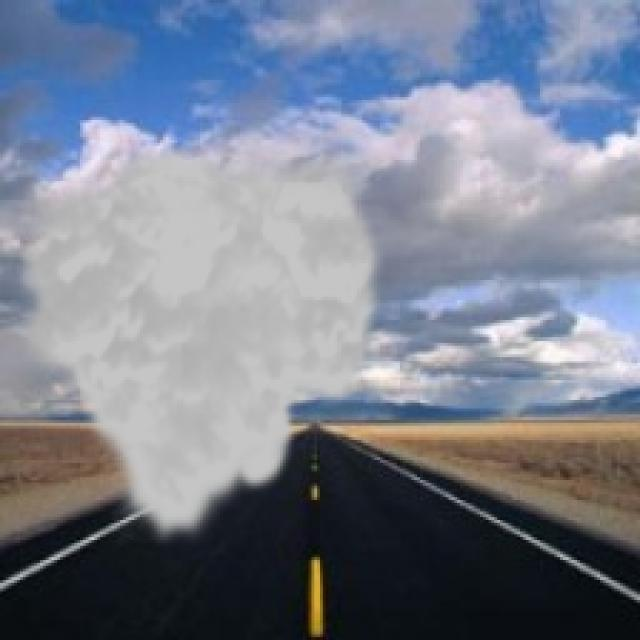Smoke: (9, 142, 388, 548)
